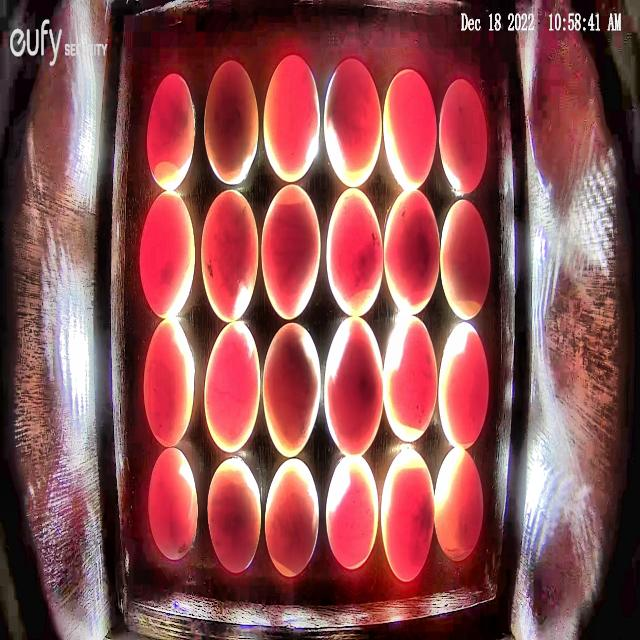DE: (380, 447, 435, 583), (434, 446, 484, 562)
FE: (324, 315, 384, 458), (262, 320, 322, 458), (200, 188, 260, 324), (261, 183, 321, 319), (325, 186, 384, 318), (203, 321, 261, 454), (324, 58, 382, 188), (263, 53, 320, 182), (384, 188, 441, 314), (383, 314, 438, 442), (204, 60, 259, 186), (139, 192, 194, 318), (143, 316, 195, 448), (382, 68, 437, 192), (264, 458, 319, 577), (439, 322, 489, 450), (324, 455, 380, 569), (207, 458, 261, 573), (441, 197, 491, 320), (146, 72, 196, 192), (147, 447, 198, 560), (439, 77, 487, 195)
